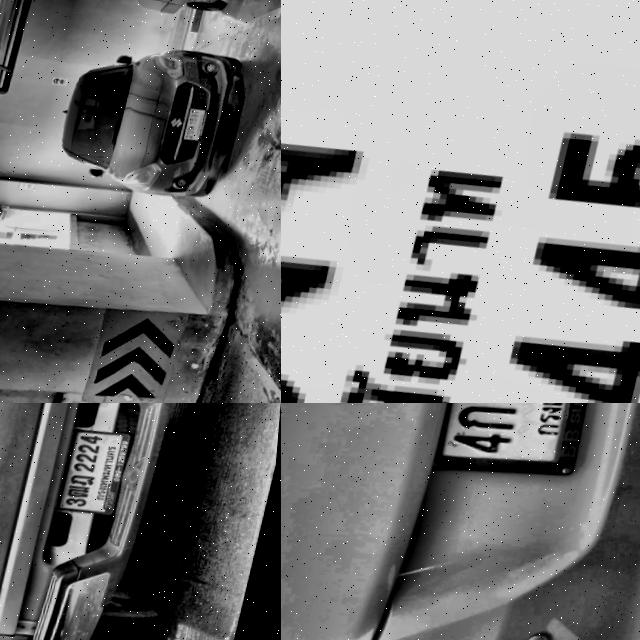license-plate: (281, 0, 640, 403), (416, 403, 629, 498), (59, 432, 140, 524), (185, 110, 216, 150)
